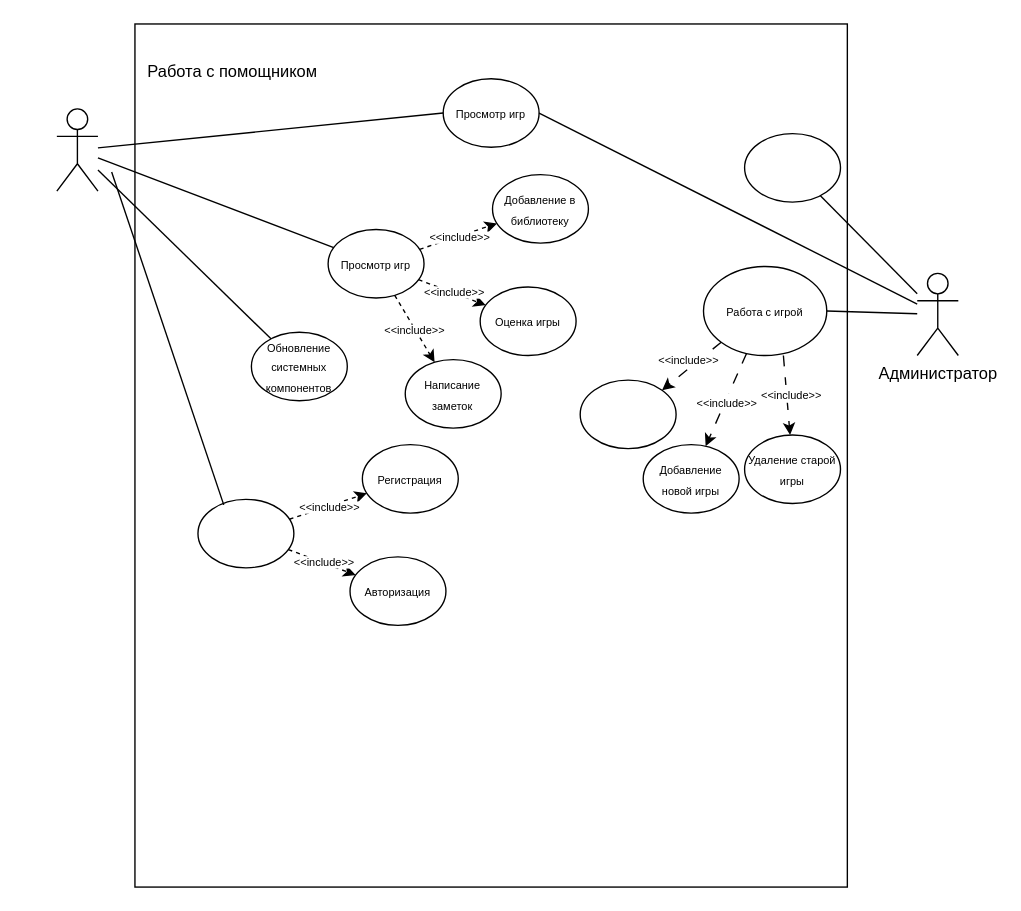
Some shapes in this 1021 by 911 pixel diagram are drawn without their labels. The box of each missing label's shape, as (x1, y1, x2, y2) in pixels:
Вход в систему: (197, 498, 294, 568)
Пользователь: (55, 108, 98, 191)
Работа с библиотеками игр: (743, 132, 840, 202)
Редактирование игры: (579, 379, 676, 449)
